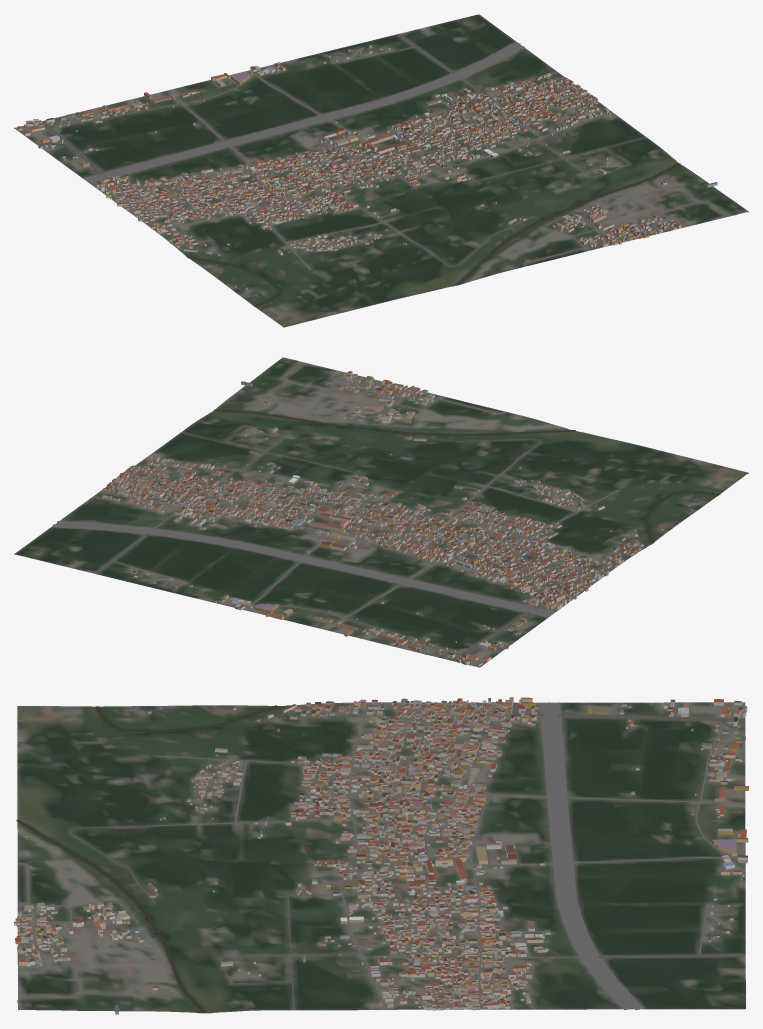
3 views of the same model, one above another, from view 1: azimuth 30°, elevation 25°; view 2: azimuth 150°, elevation 25°; view 3: azimuth 270°, elevation 25° (orthographic). The views are drawn at different scales.
Visible parts, largest first — view 1: ground, buildings, roads, water; view 2: ground, buildings, roads, water; view 3: ground, buildings, roads, water.
Boxes of the visible parts, x1,y1,x2,y2 form: ground: (14,14,748,327); buildings: (17,45,717,289); roads: (14,33,747,269); water: (187,163,680,306); ground: (14,357,748,667); buildings: (102,371,692,666); roads: (52,357,642,667); water: (214,409,719,543); ground: (17,702,745,1013); buildings: (14,697,748,1014); roads: (17,702,745,1010); water: (16,705,278,1013).
Size of the model in its own units: 1422 by 23.33 by 1415.
